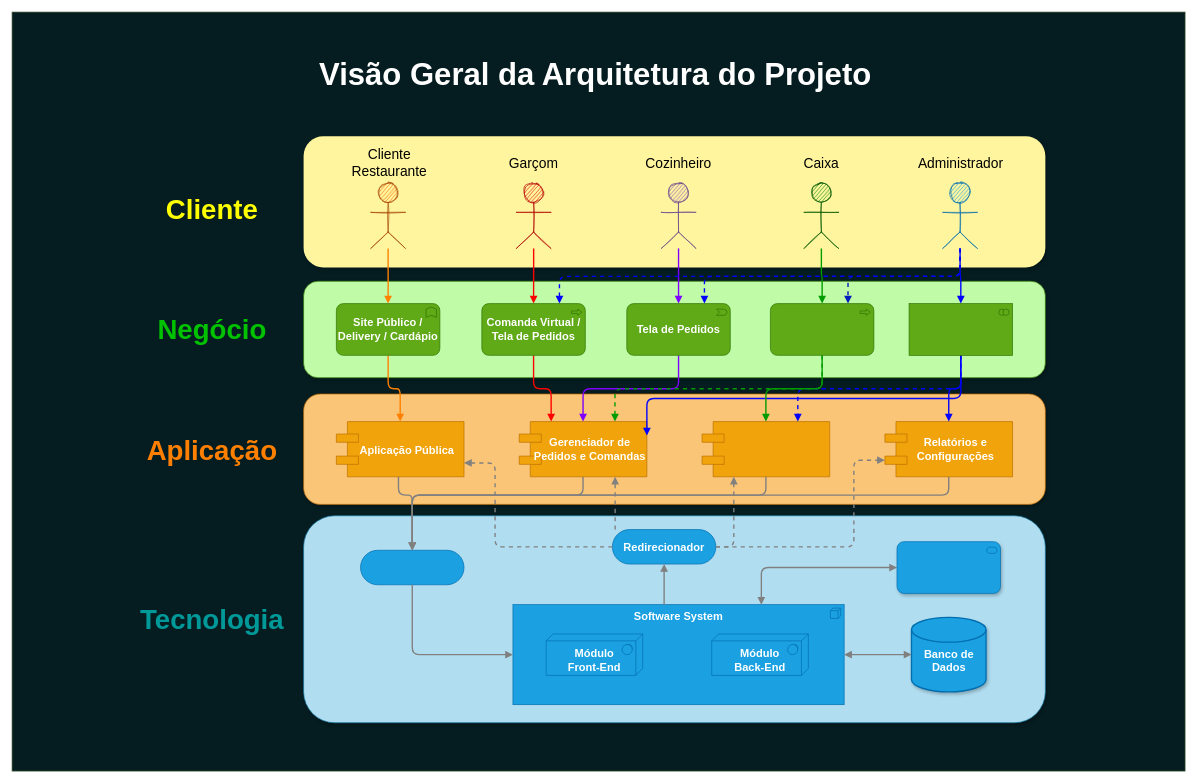
Some shapes in this 1197 by 783 pixel diagram are drawn without their labels. The shapes that lost their labels are listed below. From the top down, each one's centre as x and y in pixels, then its label:
[822,329]: Comanda Virtual / API de Pagamento
[960,329]: Dashboard de Administração
[765,449]: Aplicação de Pagamento
[412,567]: Serviço de Autentificação
[949,568]: Aplicação de Pagamentos
